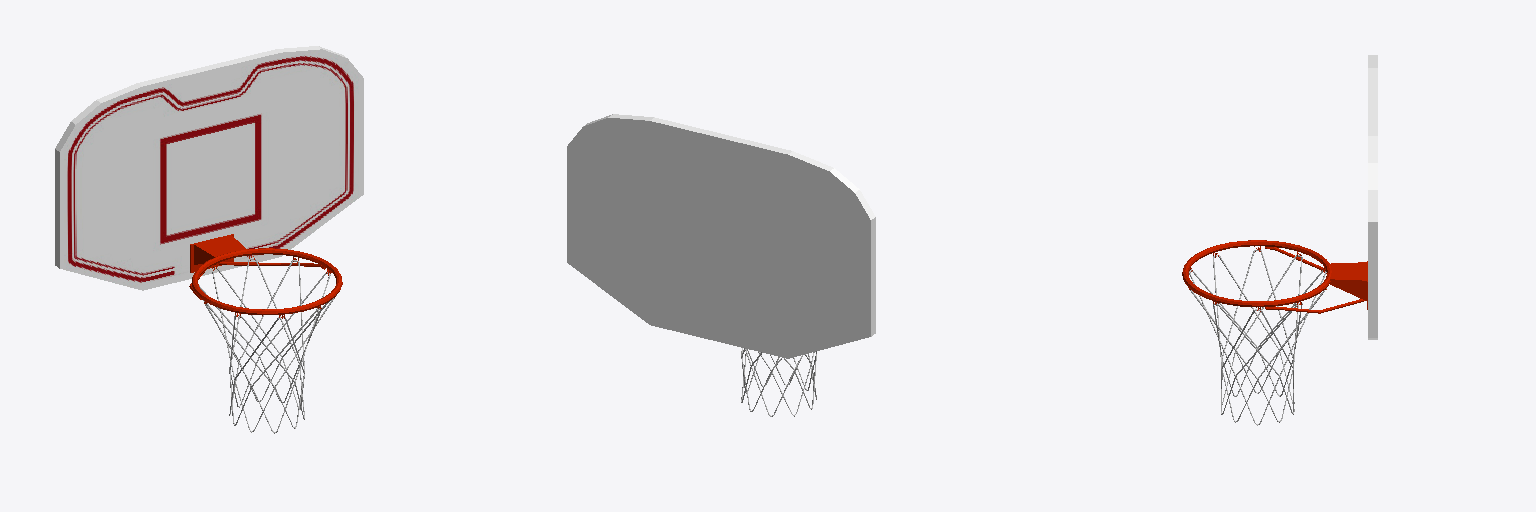
The picture shows the model from 3 angles: view 1: azimuth 30°, elevation 25°; view 2: azimuth 150°, elevation 25°; view 3: azimuth 270°, elevation 25°; orthographic projection.
Visible parts, largest first — view 1: panel_Cube, net_Circle.001, hitches_Mesh, support_Cube.001; view 2: panel_Cube, net_Circle.001; view 3: net_Circle.001, panel_Cube, hitches_Mesh, support_Cube.001.
Part boxes in pixels (left/top/right/bottom): panel_Cube: left=55, top=46, right=363, bottom=290; net_Circle.001: left=199, top=258, right=336, bottom=433; hitches_Mesh: left=192, top=248, right=342, bottom=315; support_Cube.001: left=189, top=234, right=325, bottom=299; panel_Cube: left=567, top=114, right=875, bottom=358; net_Circle.001: left=741, top=348, right=816, bottom=416; net_Circle.001: left=1189, top=250, right=1326, bottom=425; panel_Cube: left=1368, top=55, right=1377, bottom=339; hitches_Mesh: left=1182, top=240, right=1331, bottom=306; support_Cube.001: left=1265, top=247, right=1367, bottom=313.
Size of the model in its own units: 1.09 by 1.06 by 0.6086.
4 materials, 1 textured.